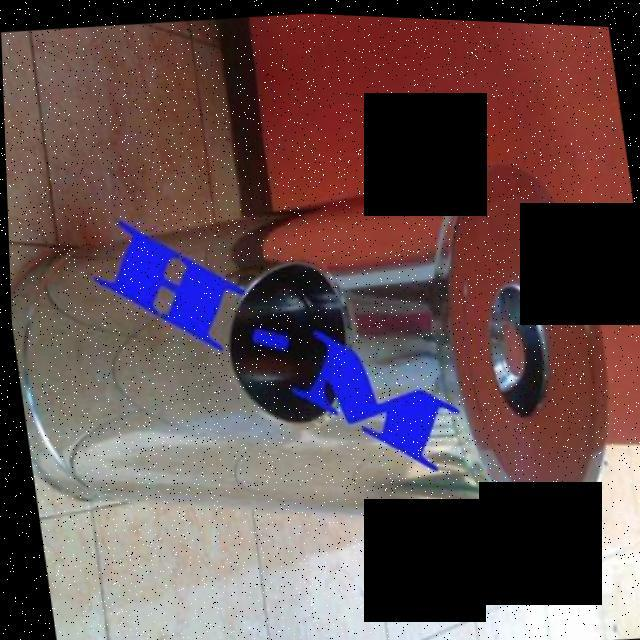bin: (4, 124, 640, 622)
